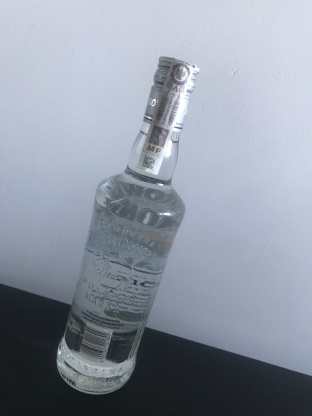nakretka: (141, 53, 201, 135)
